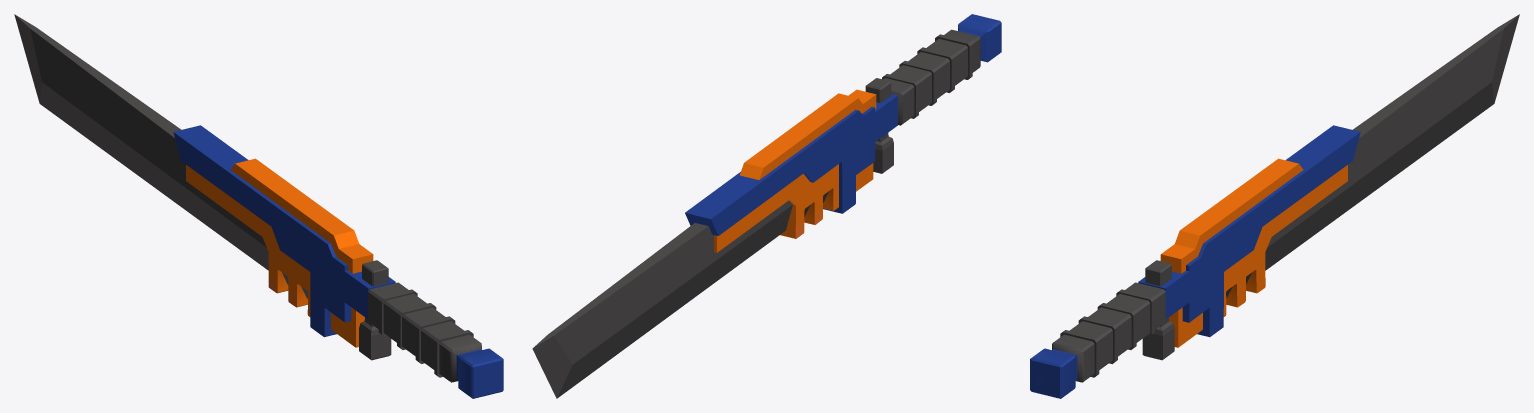
The model's file is CharWeapon.fbx.
3 renders of one model, left to right at view 1: azimuth 30°, elevation 25°; view 2: azimuth 150°, elevation 25°; view 3: azimuth 330°, elevation 25°, orthographic. The views are drawn at different scales.
Parts seen in each view (by area): view 1: Sword; view 2: Sword; view 3: Sword.
Boxes of the visible parts, bbox=[...] form: Sword: bbox=[14, 14, 503, 398]; Sword: bbox=[532, 14, 1001, 398]; Sword: bbox=[1030, 14, 1519, 398].
Bounding box in the file's own units: 21.86 × 60.99 × 497.
